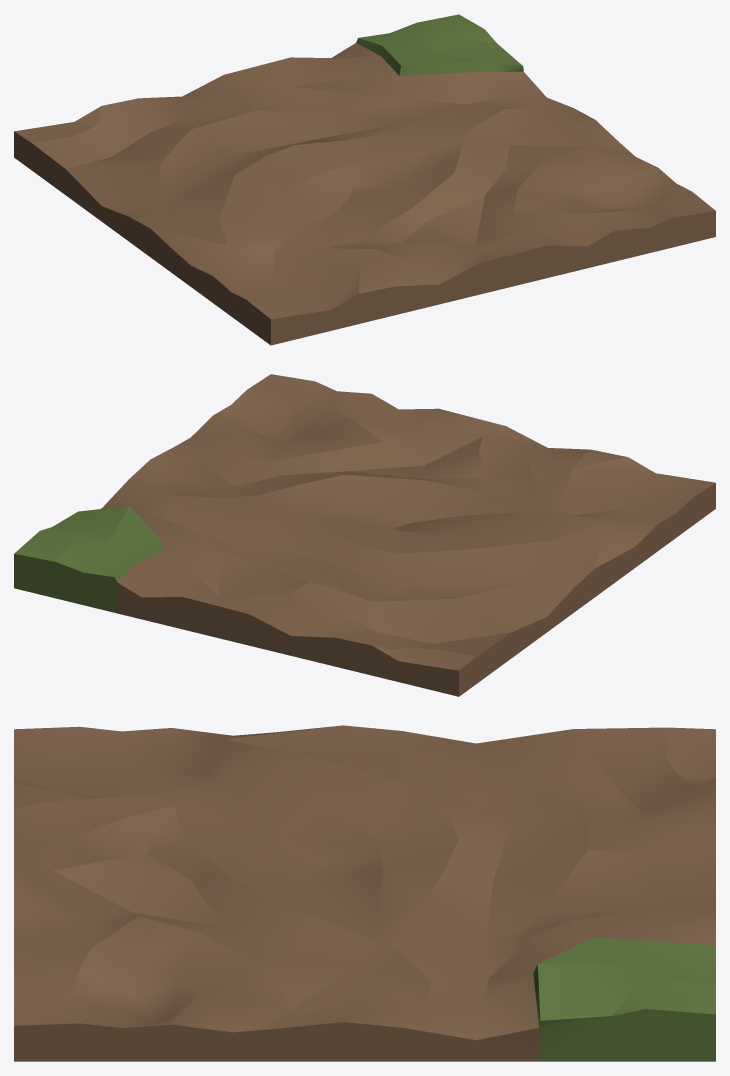
The model's file is Ground_Corner_External_RU.glb.
3 renders of one model, top to bottom at view 1: azimuth 30°, elevation 25°; view 2: azimuth 150°, elevation 25°; view 3: azimuth 270°, elevation 25°, orthographic. The views are drawn at different scales.
Parts seen in each view (by area): view 1: Ground_Corner_External_RU; view 2: Ground_Corner_External_RU; view 3: Ground_Corner_External_RU.
Boxes of the visible parts, <box> form: Ground_Corner_External_RU: <box>14,14,715,345</box>; Ground_Corner_External_RU: <box>14,374,715,696</box>; Ground_Corner_External_RU: <box>14,725,715,1061</box>.
Size of the model in its own units: 1.47 by 0.1477 by 1.47.
